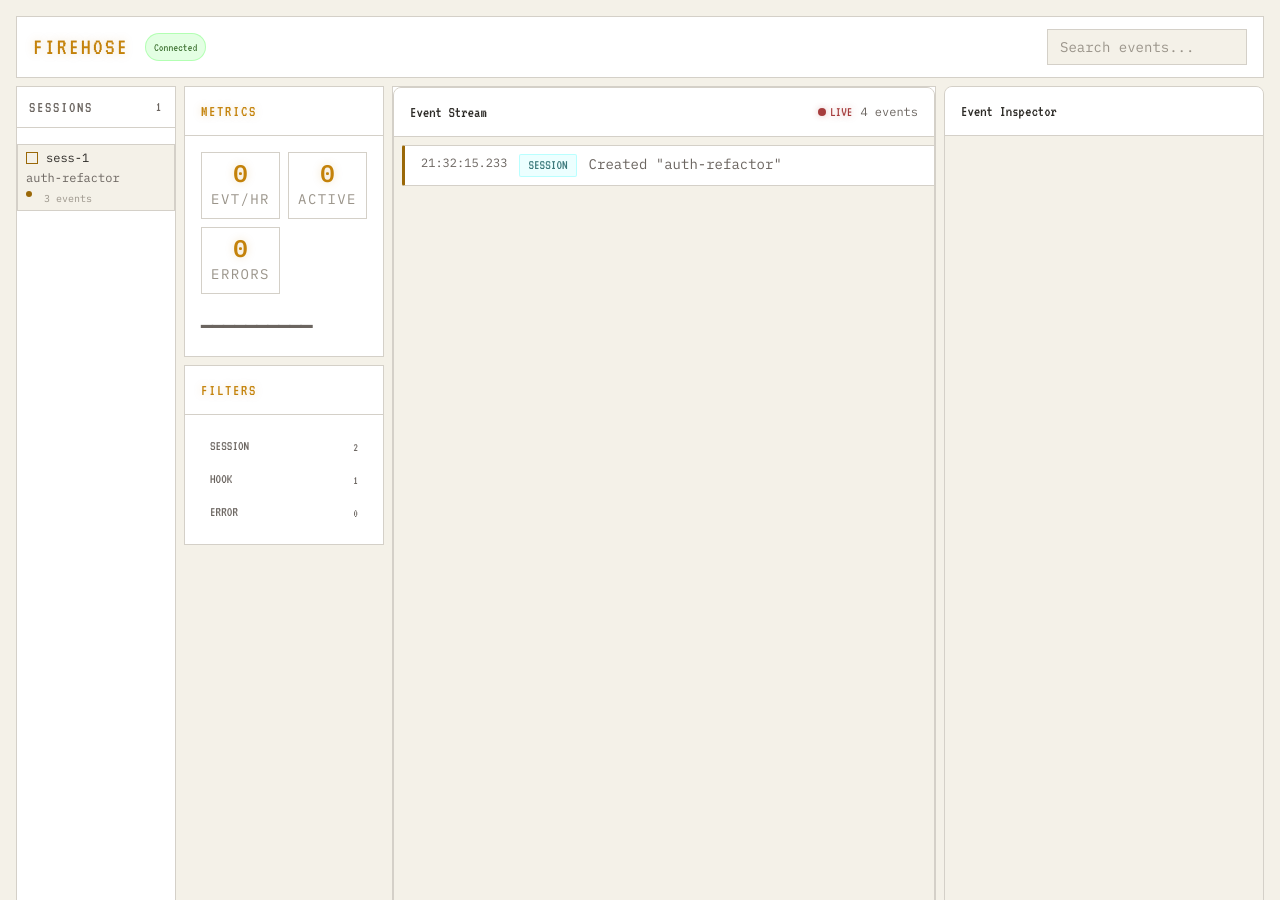
Test: FirehosePage › empty search shows all events
The width and height of the screenshot is (1280, 900).
Expected: the text "auth-refactor" is shown, x1=26 y1=170 x2=120 y2=185
Type something then clear
Type "xyz" into the field with placeholder "Search events...". click: (1147, 47)
box: x1=1047 y1=29 x2=1247 y2=65
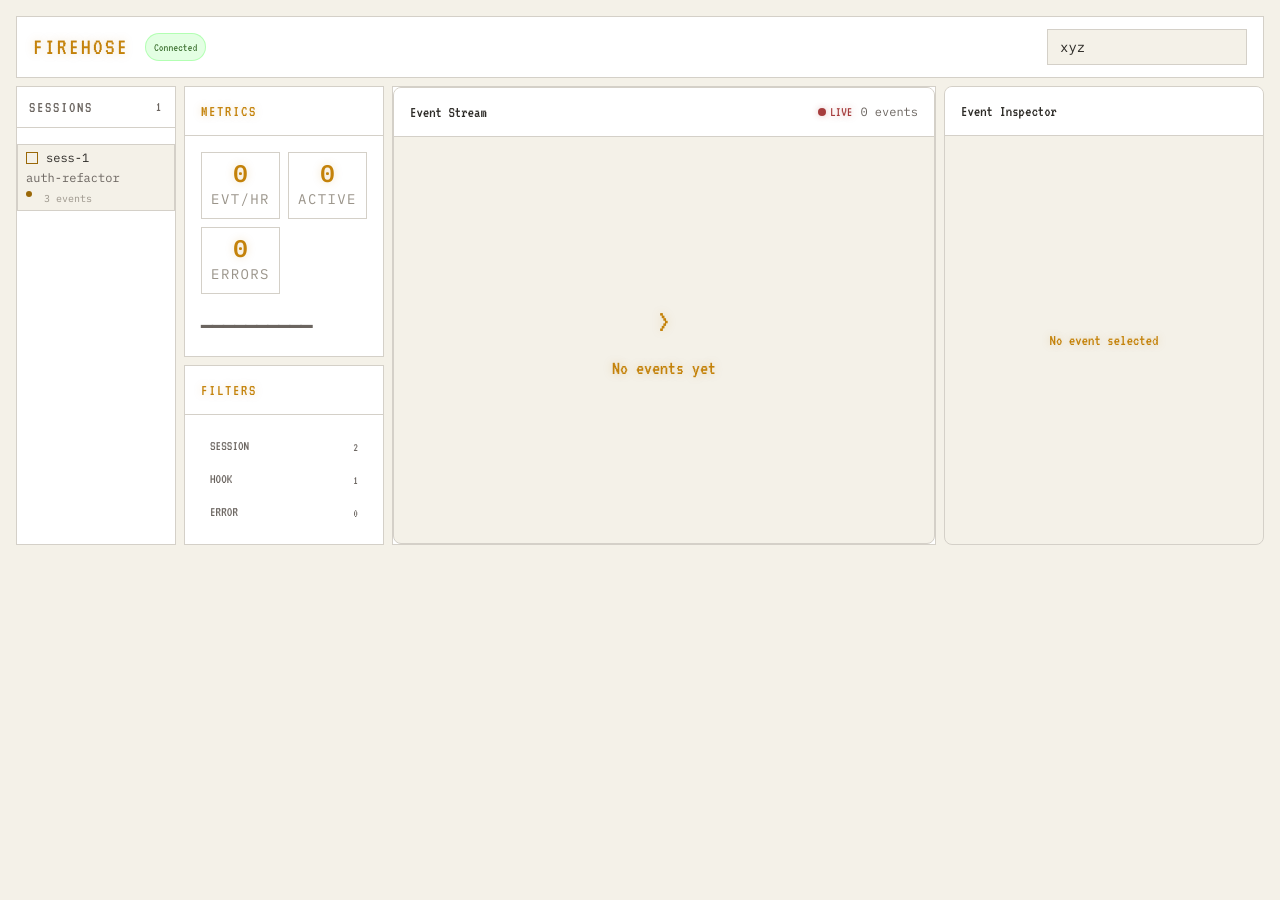
Clear the field with placeholder "Search events...". click: (1147, 47)
box: x1=1047 y1=29 x2=1247 y2=65
(page scrolled)
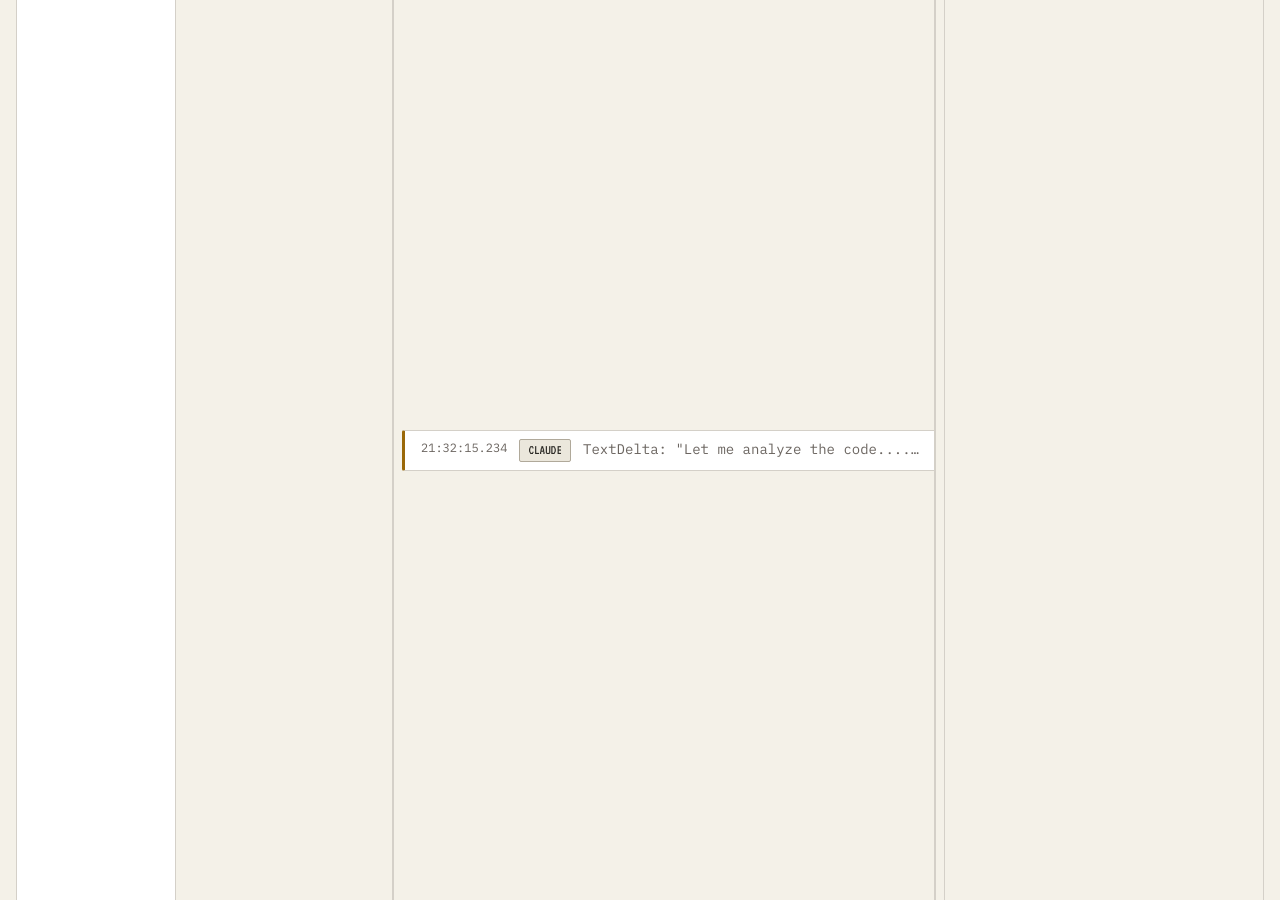
Expected: the text "TextDelta: \"Let me analyze the code......\"" is shown, x1=583 y1=439 x2=925 y2=462
